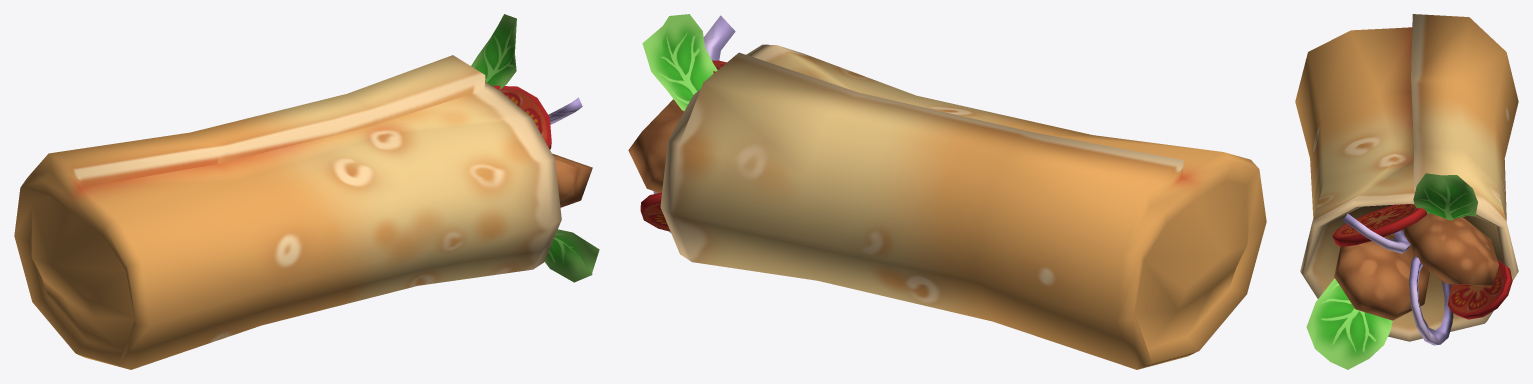
Rendered from Tastyroll.fbx.
3 views of the same model, side by side, from view 1: azimuth 30°, elevation 25°; view 2: azimuth 150°, elevation 25°; view 3: azimuth 270°, elevation 25° (orthographic). The views are drawn at different scales.
Parts seen in each view (by area): view 1: Plane.002; view 2: Plane.002; view 3: Plane.002.
Boxes of the visible parts, box(x1,y1,x2,y2) form: Plane.002: box(14, 14, 599, 369); Plane.002: box(628, 14, 1266, 369); Plane.002: box(1295, 14, 1518, 369).
Bounding box in the file's own units: 495 × 206 × 216.
